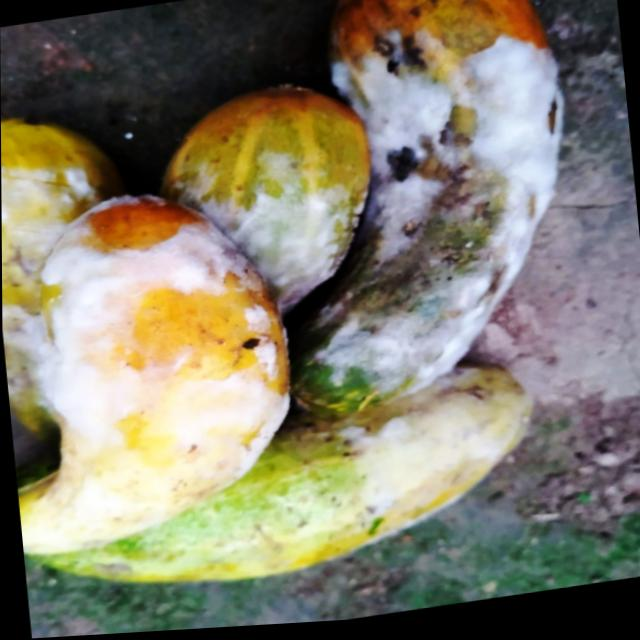Pythium-Fruit-Rot: (289, 15, 586, 423), (12, 177, 298, 515), (173, 144, 367, 342), (341, 363, 531, 546), (1, 157, 117, 420)
